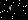person: (9, 5, 16, 16), (4, 6, 11, 15)
